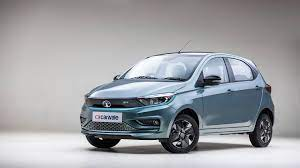Tiago: (78, 47, 277, 155)
